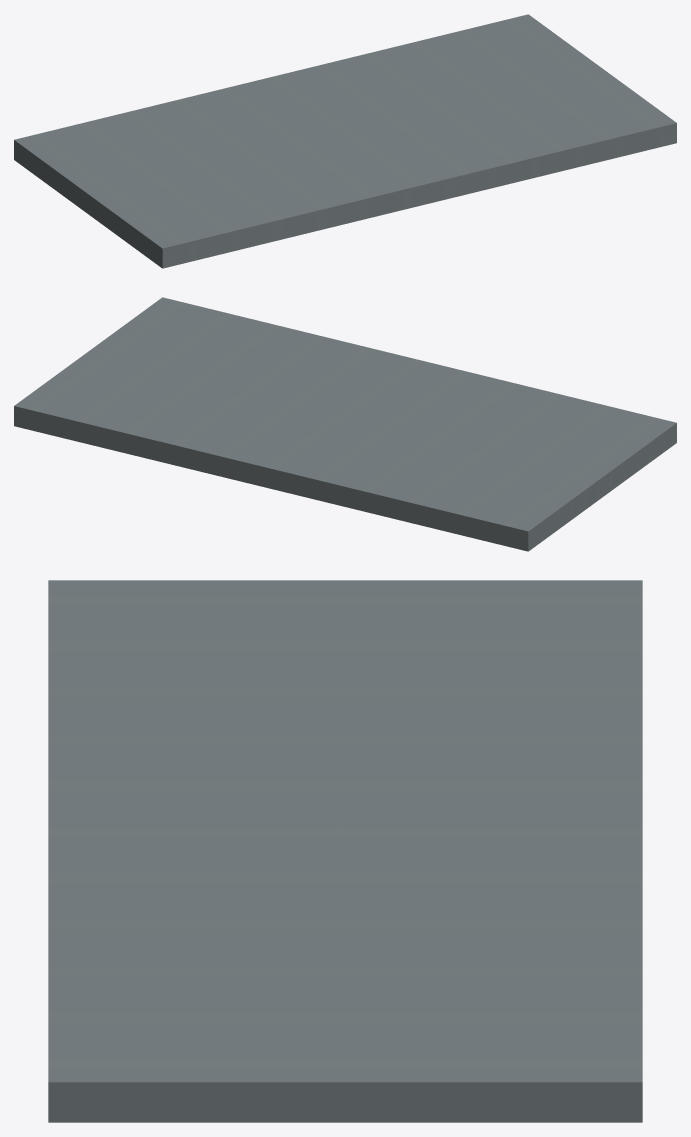
Rendered from office_fluorescent_panel.glb.
3 renders of one model, top to bottom at view 1: azimuth 30°, elevation 25°; view 2: azimuth 150°, elevation 25°; view 3: azimuth 270°, elevation 25°, orthographic. The views are drawn at different scales.
Visible parts, largest first — view 1: core_office_fluorescent_panel; view 2: core_office_fluorescent_panel; view 3: core_office_fluorescent_panel.
Part boxes in pixels (x1,y1,x2,y2): core_office_fluorescent_panel: (14, 14, 676, 268); core_office_fluorescent_panel: (14, 297, 676, 551); core_office_fluorescent_panel: (48, 580, 642, 1122).
Bounding box in the file's own units: 1.2 × 0.045 × 0.6.
Materials: 4 (3 with a texture image).
